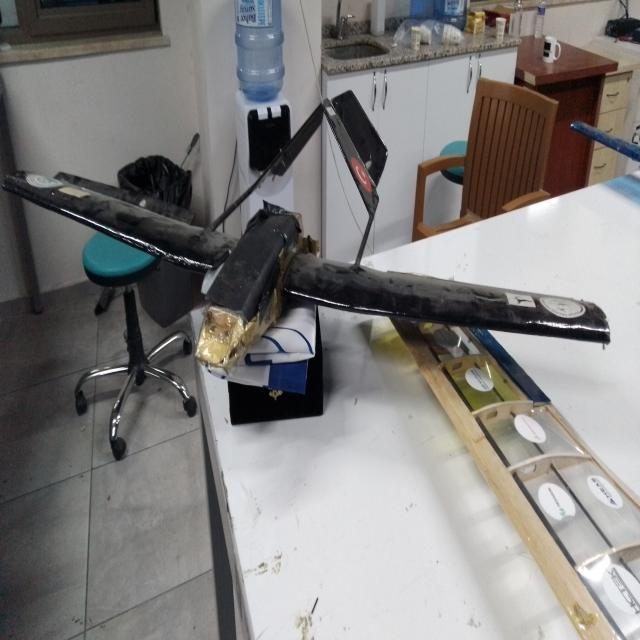iha: (1, 88, 627, 379)
